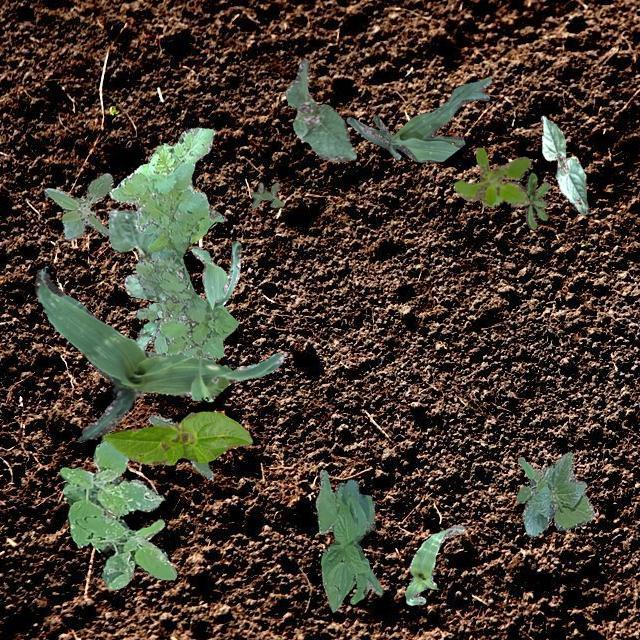crop: (34, 264, 286, 440), (346, 76, 490, 160), (134, 240, 240, 350), (314, 468, 382, 610), (102, 411, 252, 464), (284, 58, 356, 160), (516, 451, 594, 536), (106, 208, 164, 302), (403, 524, 463, 604), (540, 114, 588, 213)
weed: (109, 126, 238, 356), (58, 436, 176, 588), (42, 172, 112, 240), (452, 147, 532, 206), (148, 414, 212, 478), (516, 172, 548, 228), (250, 182, 282, 208)
